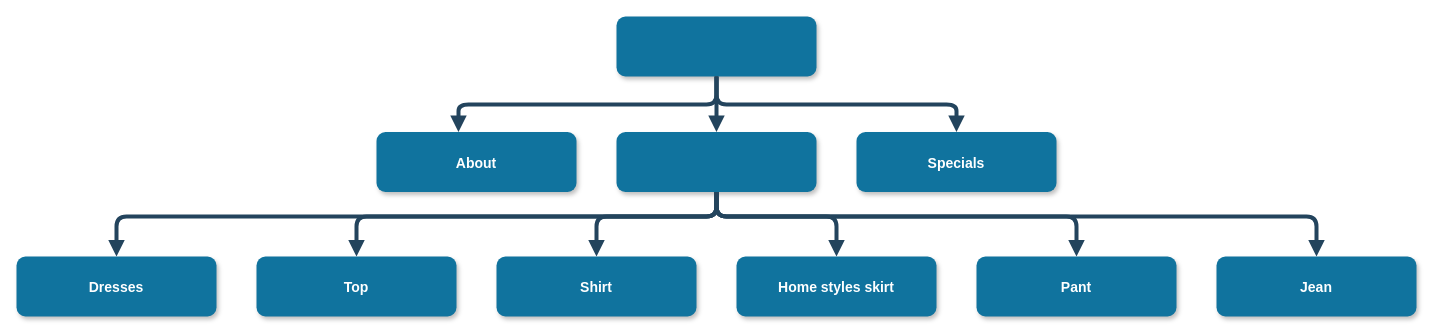
Image size: 1433x333. Some labels were removed from this diagram. The shapes that lost their labels are listed below. From the top down, each one's centre as x and y in pixels, then its label:
At pixel 717 47: "Home / Index".
At pixel 717 163: "Menu".
